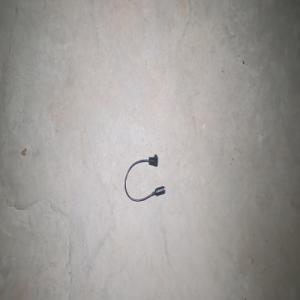Wire: (124, 154, 165, 201)
